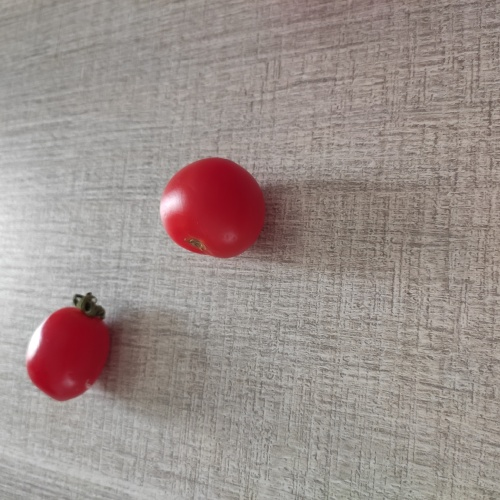pomodoro: (157, 153, 270, 268), (16, 290, 115, 408)
